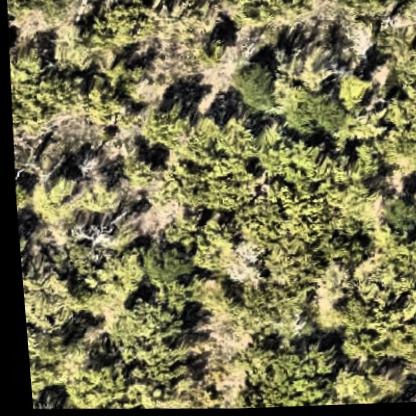tree-top: (230, 137, 372, 283), (176, 262, 311, 340), (165, 119, 254, 220), (27, 174, 132, 257), (349, 240, 416, 370), (358, 39, 416, 176), (230, 340, 335, 410), (52, 248, 142, 329), (107, 297, 187, 384), (8, 40, 79, 138), (124, 367, 225, 413), (80, 0, 164, 54), (21, 325, 79, 399), (319, 358, 404, 407), (17, 262, 75, 331), (281, 84, 346, 141), (223, 57, 281, 116), (75, 67, 125, 133), (57, 358, 119, 410), (188, 220, 239, 276), (135, 240, 195, 284), (232, 0, 312, 33), (142, 101, 189, 152), (111, 150, 158, 196), (6, 0, 71, 29), (341, 0, 413, 22), (380, 196, 416, 238), (327, 297, 365, 335), (193, 37, 228, 67)
